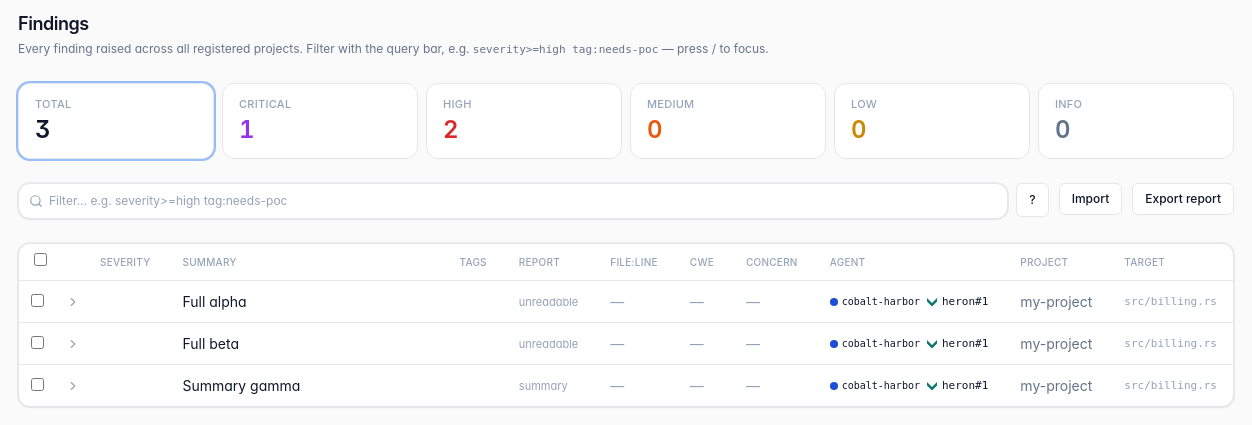
Findings — export report › is disabled when the filters leave nothing to export
This screenshot has width=1252, height=425.
Check: the text "Full alpha" is shown, box left=182, top=292, right=247, bottom=310
Click the button with aria-label "filter by medium" at (728, 121), box left=630, top=82, right=826, bottom=159
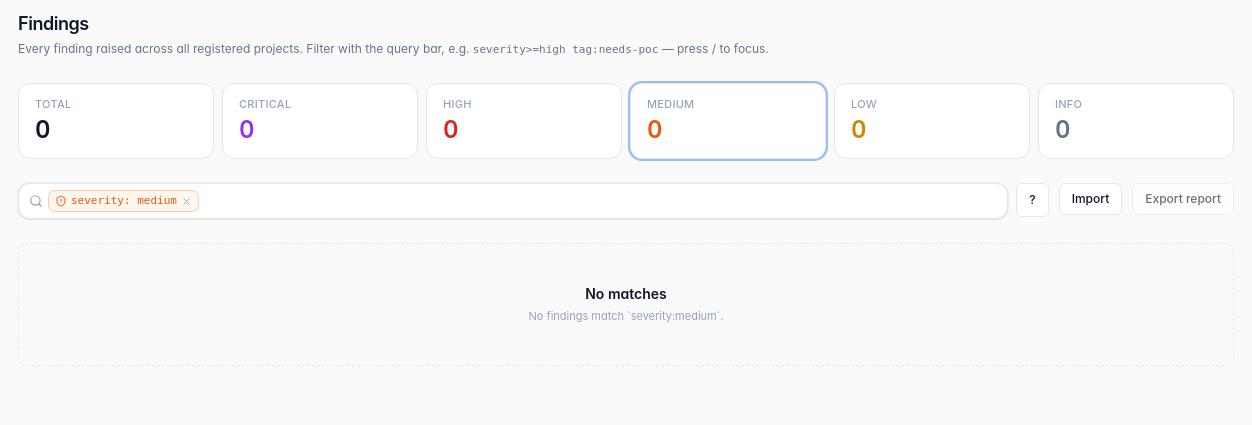
Check: the text "No matches" is shown, box left=585, top=285, right=667, bottom=302
Check: the button "Export report" is disabled, box left=1132, top=183, right=1234, bottom=215
